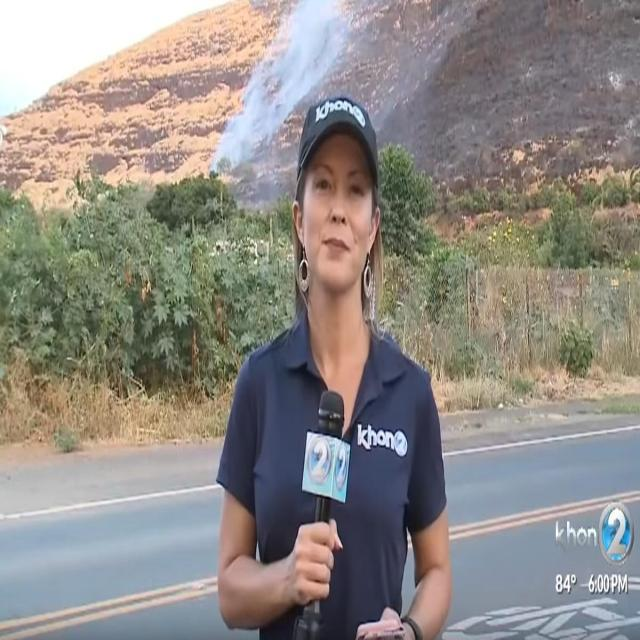Smoke: (196, 0, 344, 177)
